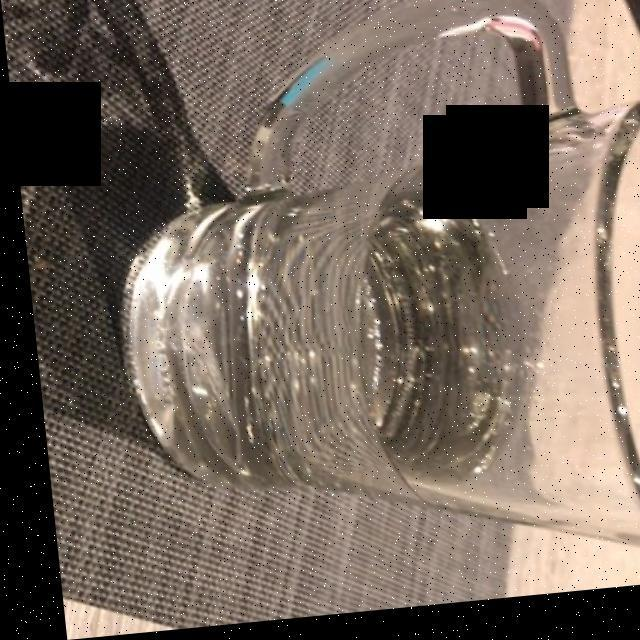water: (164, 187, 497, 513)
